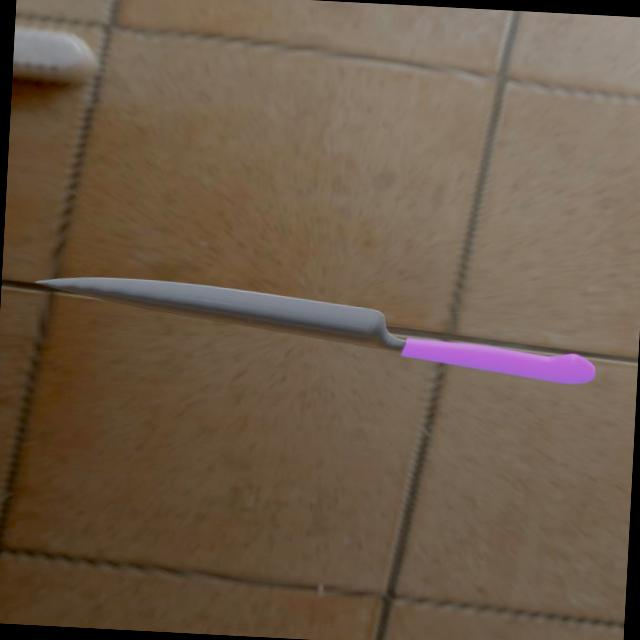knife: (400, 337, 598, 385)
